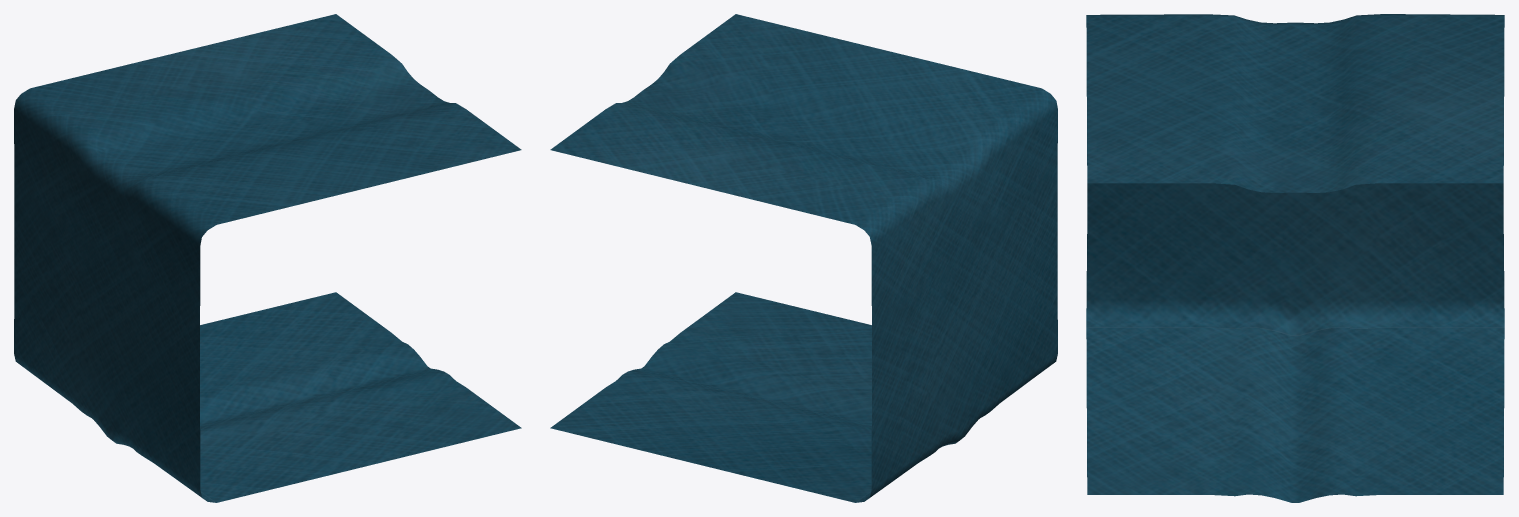
Rendered from tl_flymid.FBX.
The picture shows the model from 3 angles, left to right: view 1: azimuth 30°, elevation 25°; view 2: azimuth 150°, elevation 25°; view 3: azimuth 270°, elevation 25°; orthographic projection. The views are drawn at different scales.
Visible parts, largest first — view 1: tl_endcurveR004_FINAL; view 2: tl_endcurveR004_FINAL; view 3: tl_endcurveR004_FINAL.
Part boxes in pixels (box(x1,y1,x2,y2)): tl_endcurveR004_FINAL: box(14, 14, 521, 502); tl_endcurveR004_FINAL: box(550, 14, 1057, 502); tl_endcurveR004_FINAL: box(1086, 14, 1504, 502).
Size of the model in its own units: 100 by 84.71 by 100.
